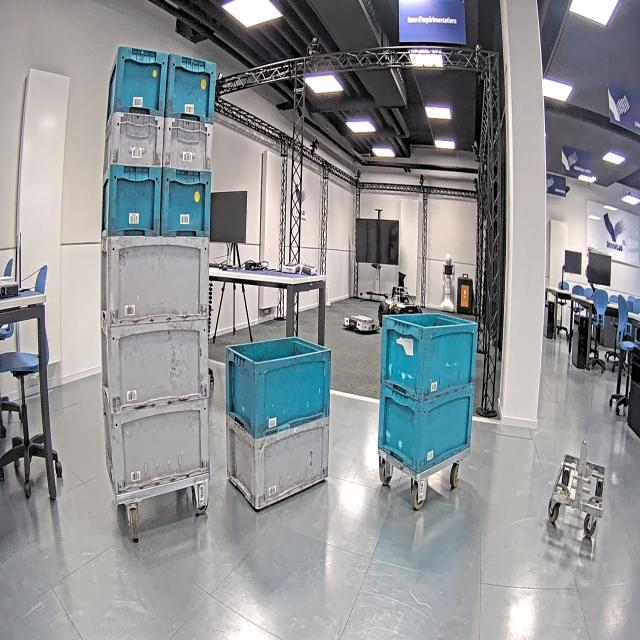Box4G: (105, 399, 209, 495), (101, 320, 209, 410), (226, 418, 329, 511), (100, 238, 209, 321)
Box8G: (105, 113, 162, 168), (163, 120, 216, 168)
BoxB4: (227, 339, 331, 428), (381, 316, 478, 395), (378, 390, 474, 464)
BoxB8: (102, 166, 161, 237), (109, 48, 164, 116), (166, 52, 215, 120), (162, 172, 212, 236)
